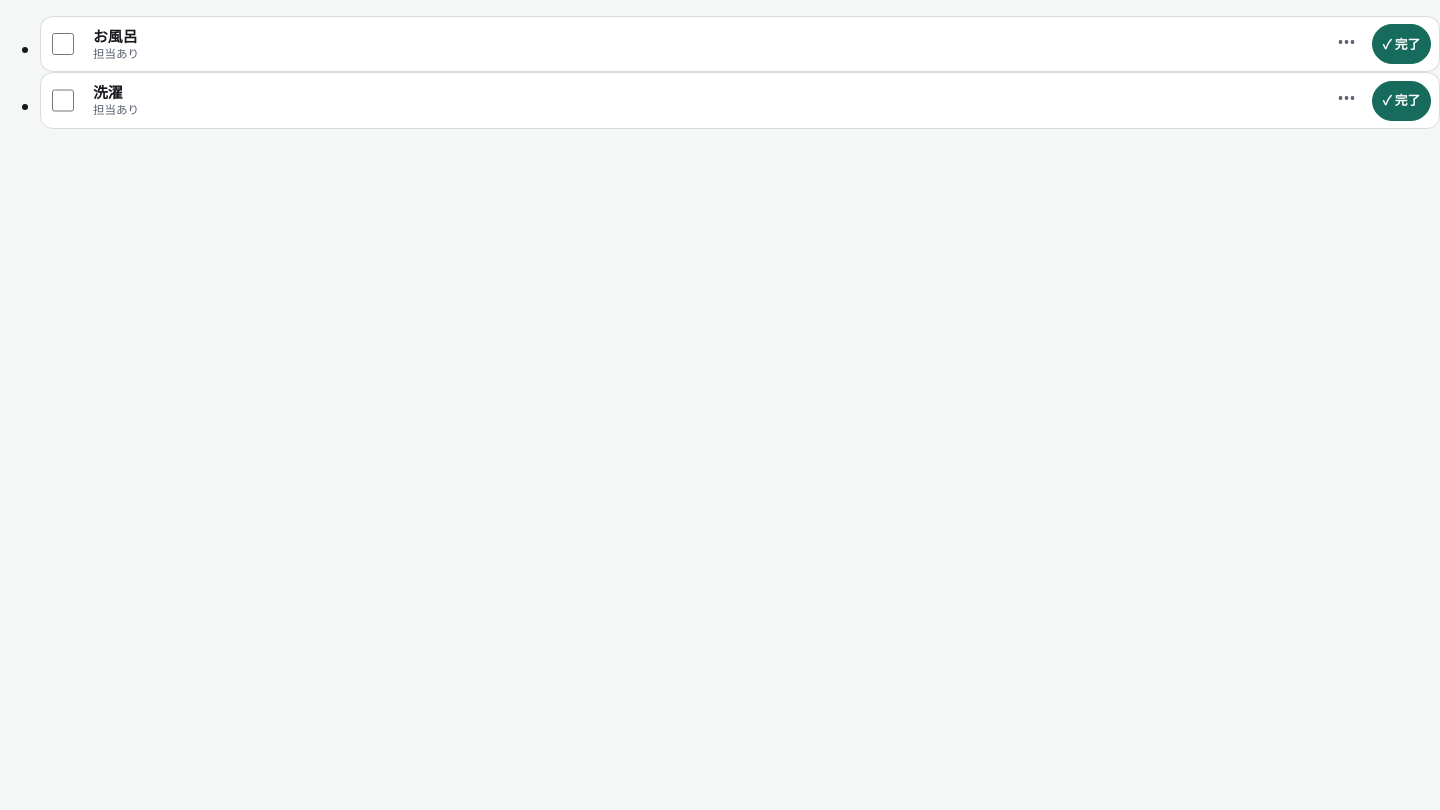
Test: ticking several tasks and recording them together › ticking only selects; nothing is saved until the bar is pressed
Click the checkbox named "お風呂を選ぶ" at (63, 44), box [52, 33, 74, 55]
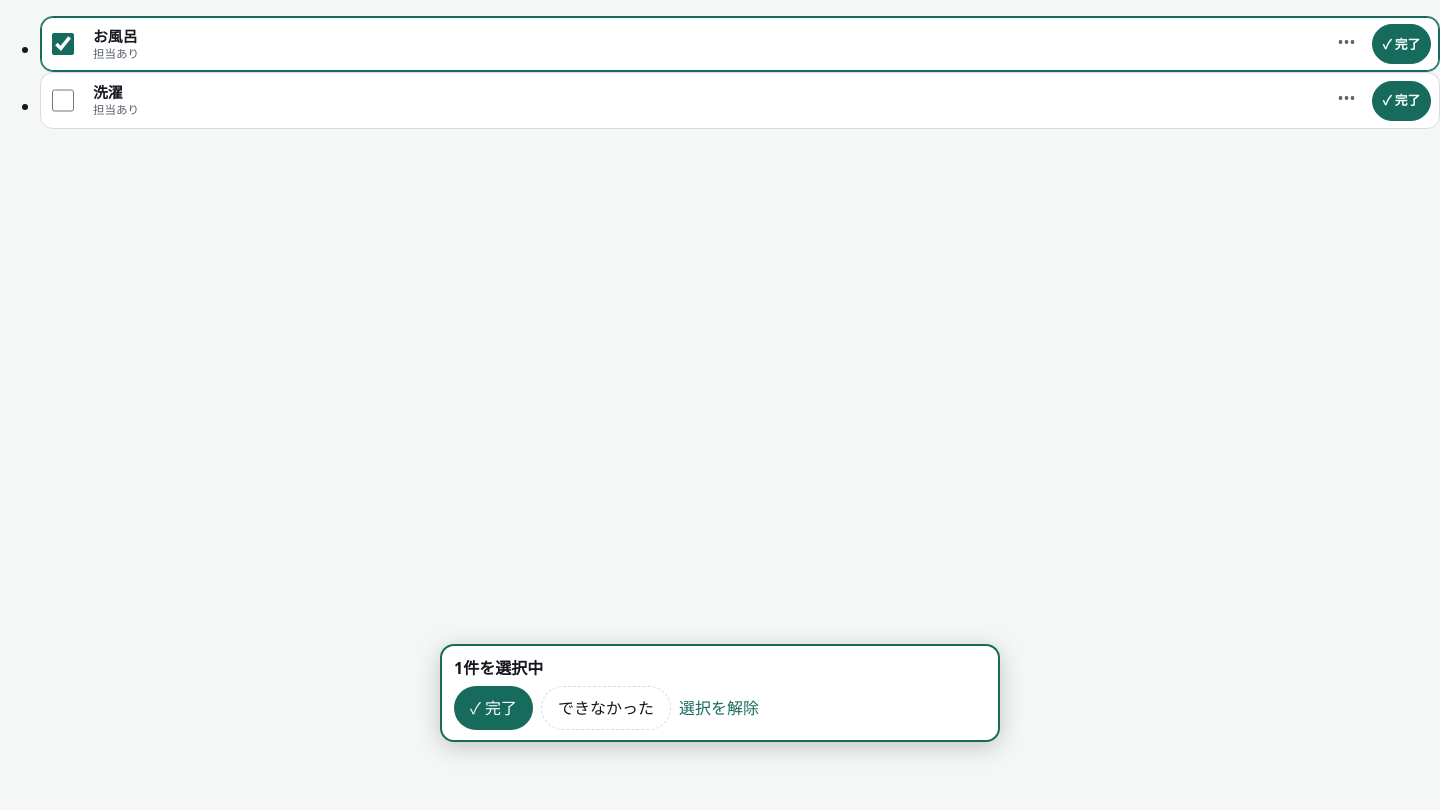
Click the checkbox named "洗濯を選ぶ" at (63, 101), box [52, 89, 74, 112]
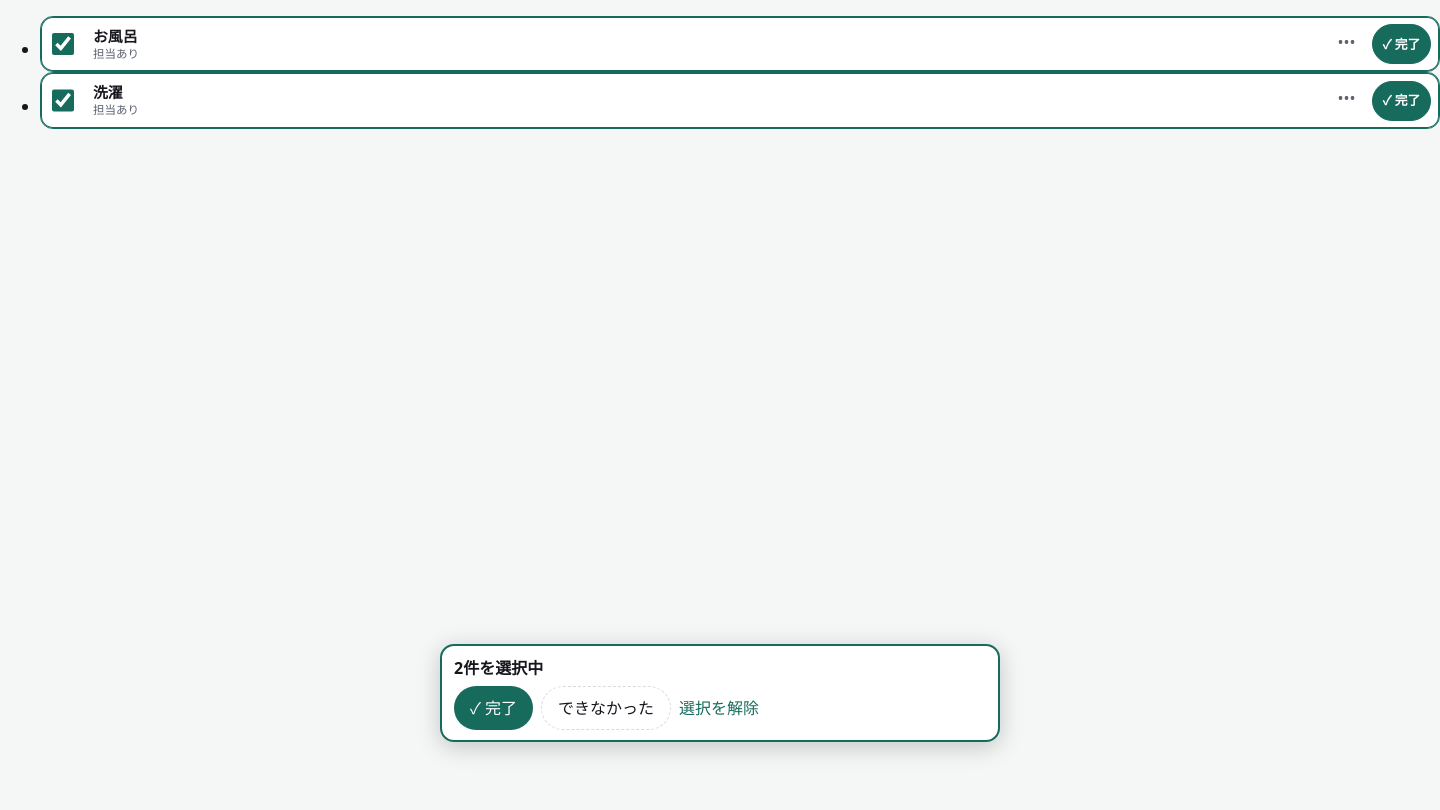
Expected: the message reads "2件を選択中", [454, 657, 543, 679]
